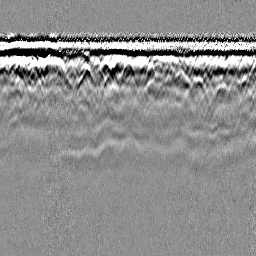cavity: (117, 56, 137, 88)
